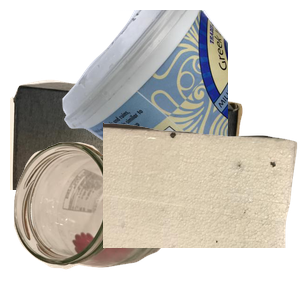cardboard: (10, 77, 245, 257)
glass: (11, 139, 179, 300)
plastic: (60, 10, 300, 190)
trash: (103, 120, 300, 300)
